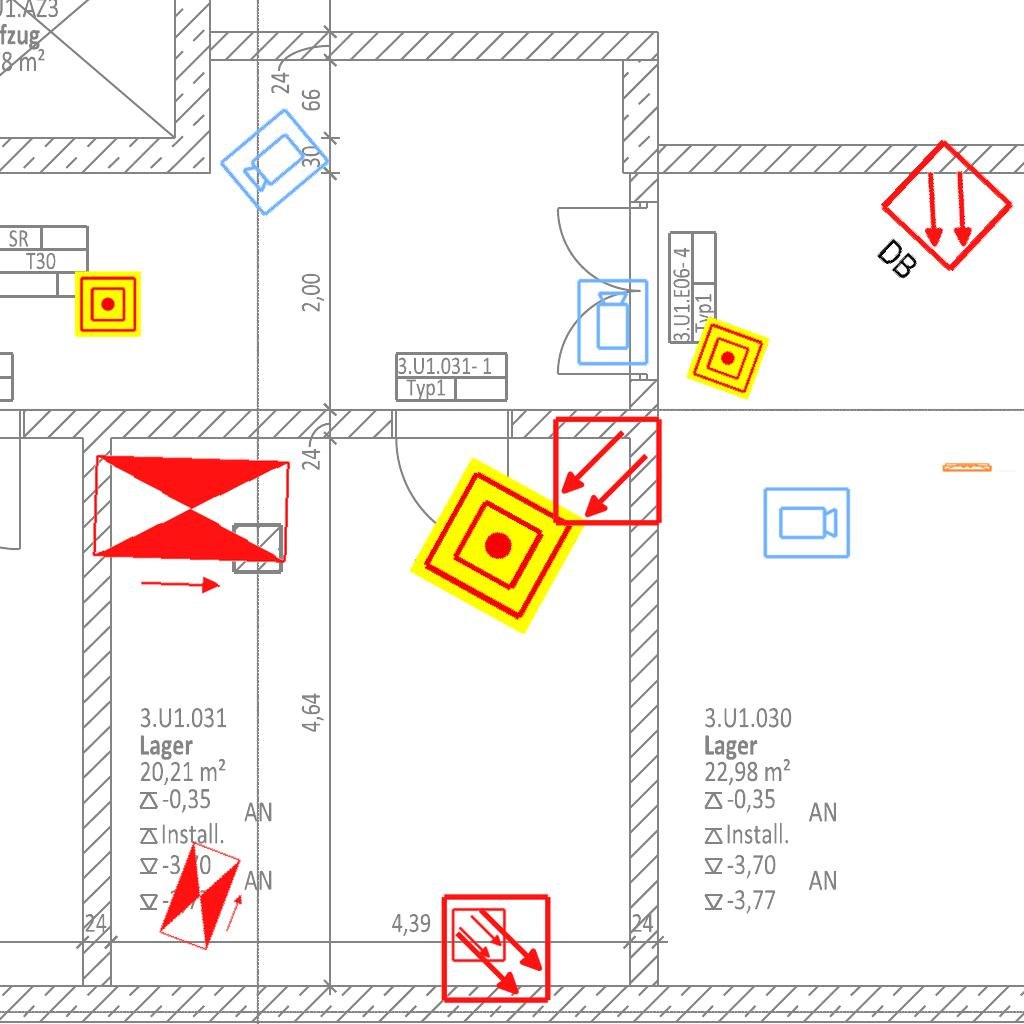DB_Melder_in_Doppelboden_mit_Revisionsoeffnung_mind_40_x_40_cm: (841, 128, 1024, 315)
Fluchtwegpiktogramm: (83, 447, 298, 603), (154, 837, 261, 961)
KFO_Kamera_mit_Festobjektiv: (214, 102, 335, 221), (575, 277, 652, 368), (761, 485, 852, 562)
NAM-Nichtautomatischer_Melder: (408, 456, 588, 636), (685, 315, 771, 401), (75, 271, 141, 337)
RMO_Rauchmelder_optischer: (440, 892, 553, 1005), (551, 415, 664, 528), (451, 907, 507, 963)
Sicherheitsleuchte_Wandeinbau: (940, 461, 1019, 473)
